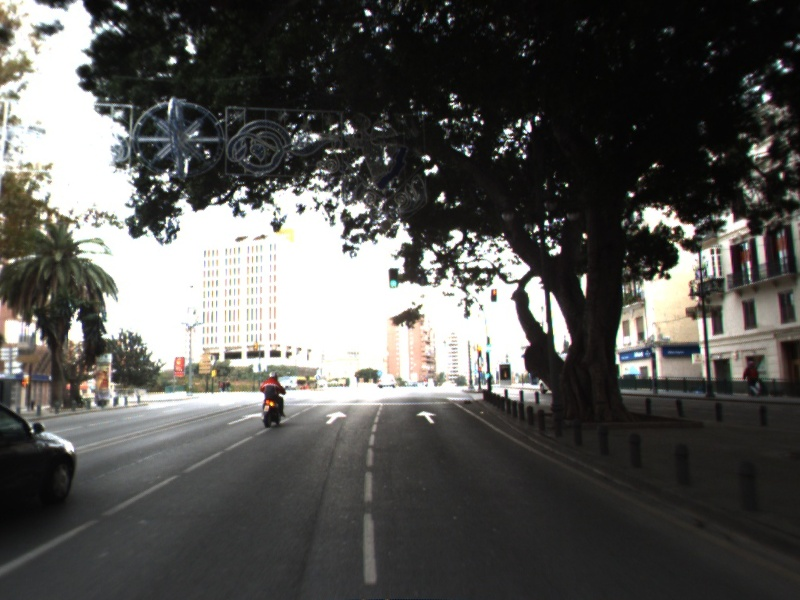STRAIGHT: (225, 411, 265, 426), (323, 409, 349, 426), (414, 408, 439, 425)
